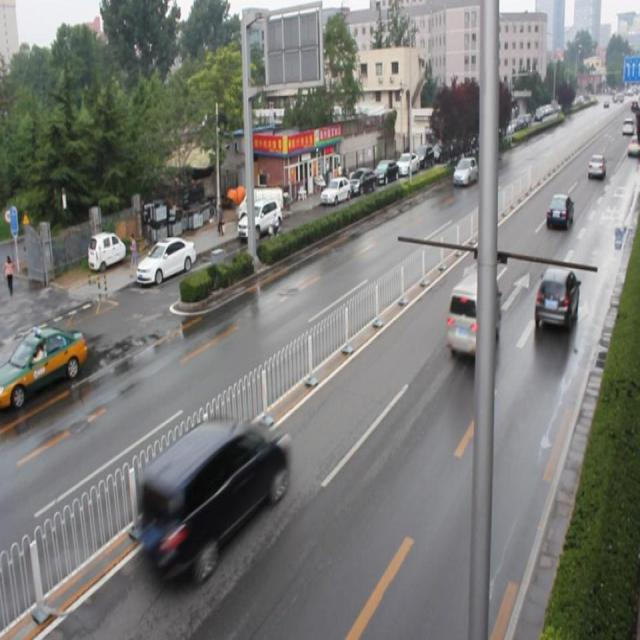car: (531, 266, 579, 334), (543, 191, 572, 229), (452, 154, 477, 186)
truck: (137, 416, 293, 587), (447, 269, 501, 358)
